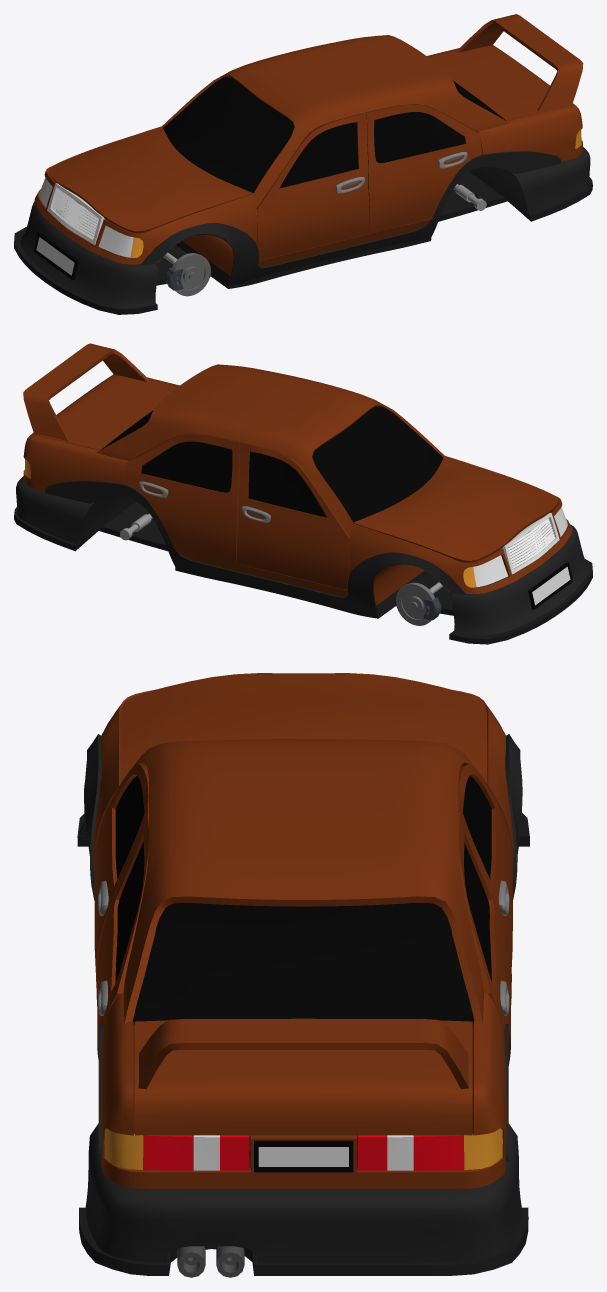
The model's file is benz190e.fbx.
3 views of the same model, one above another, from view 1: azimuth 30°, elevation 25°; view 2: azimuth 150°, elevation 25°; view 3: azimuth 270°, elevation 25° (orthographic). The views are drawn at different scales.
Visible parts, largest first — view 1: Body, Windows; view 2: Body, Windows; view 3: Body, Windows.
Part boxes in pixels (x1,y1,x2,y2): Body: (14,14,592,314); Windows: (163,77,505,192); Body: (14,343,592,644); Windows: (100,406,443,522); Body: (77,673,529,1277); Windows: (115,775,491,1024).
Size of the model in its own units: 606 by 168 by 234.
